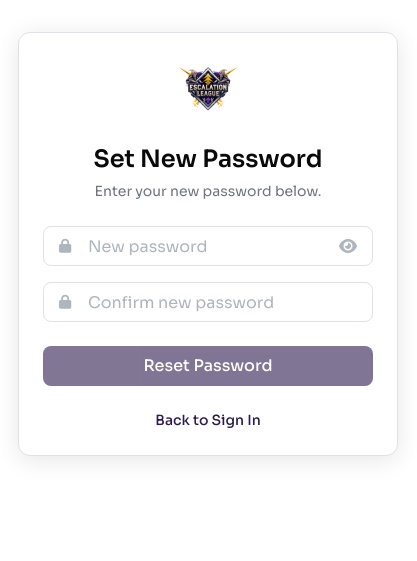
Test: ResetPassword › form interaction › should clear error when typing in confirm password field
Step 1. Type "validpassword123" into the password field with placeholder "New password" → (208,246), box left=43, top=226, right=373, bottom=266
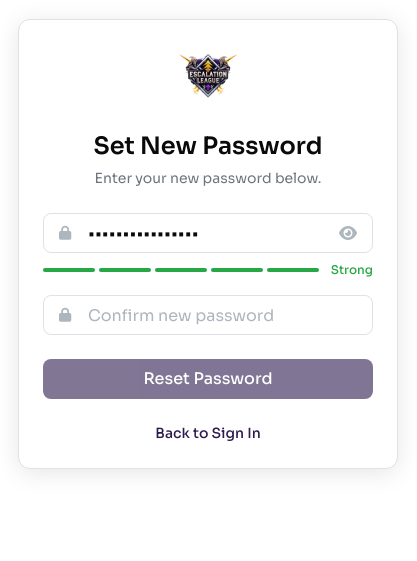
Step 2. Type "validpassword123" into the password field with placeholder "Confirm new password" → (208,315), box left=43, top=295, right=373, bottom=335
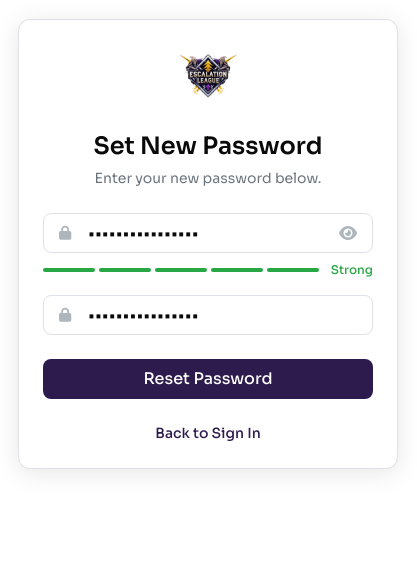
Step 3. Click the button "Reset Password" → (208,379), box left=43, top=359, right=373, bottom=399
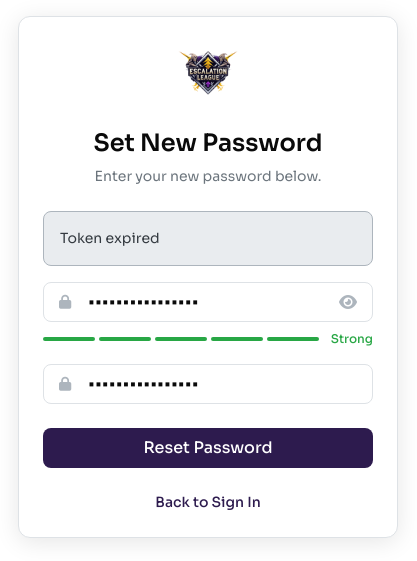
Check: the text "Token expired" is shown, box left=43, top=211, right=373, bottom=266
Step 4. Type "newpassword456" into the 2nd password field with placeholder "Confirm new password" → (208,384), box left=43, top=364, right=373, bottom=404
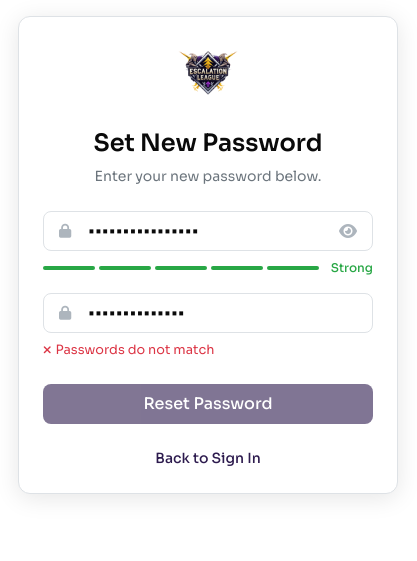
Check: the text "Token expired" is gone
